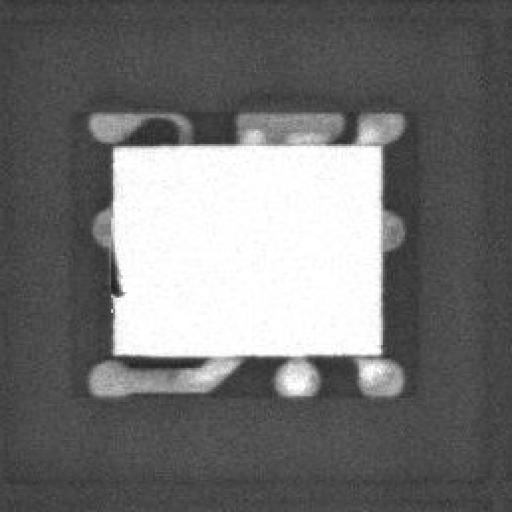DIE_BROKEN: (103, 246, 127, 300)
